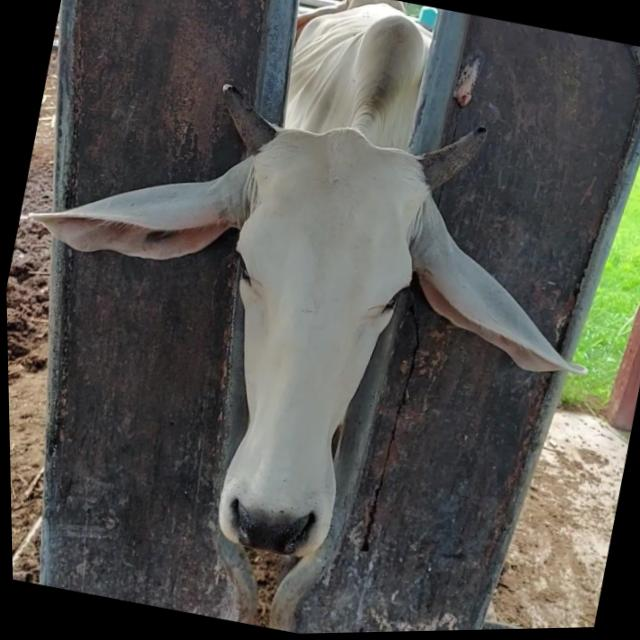cowFace: (173, 110, 443, 574)
